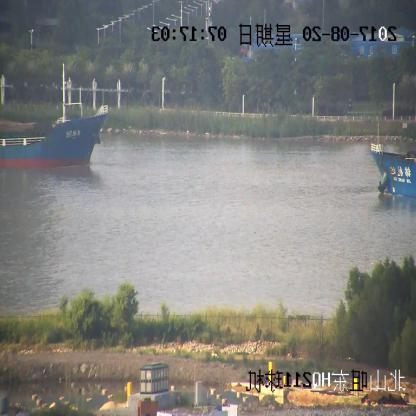Bulk Carrier: (0, 74, 106, 169), (374, 138, 415, 203)
